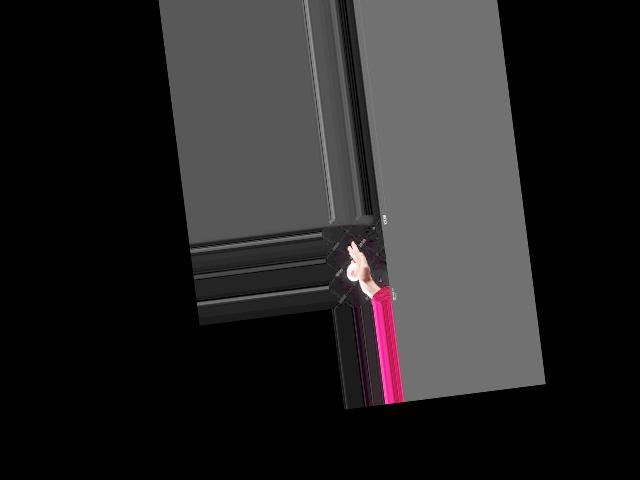egg: (345, 263, 360, 282)
